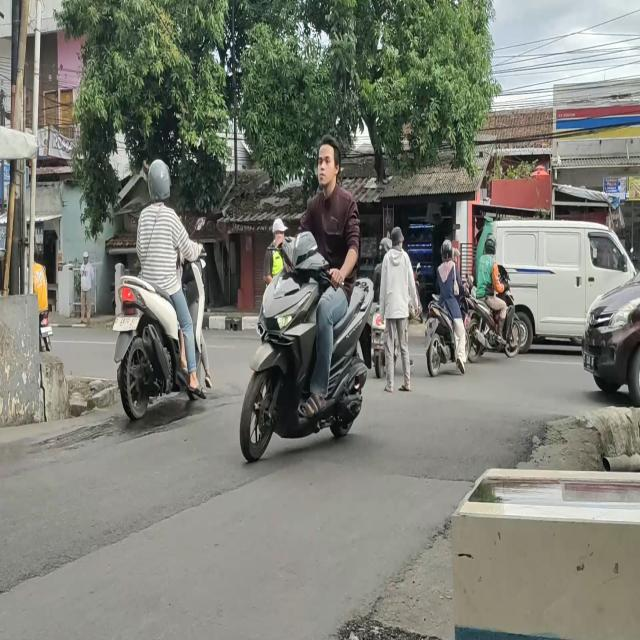helmet: (148, 162, 171, 196), (441, 239, 452, 262), (484, 234, 496, 254)
no-helmet: (318, 142, 339, 188)
